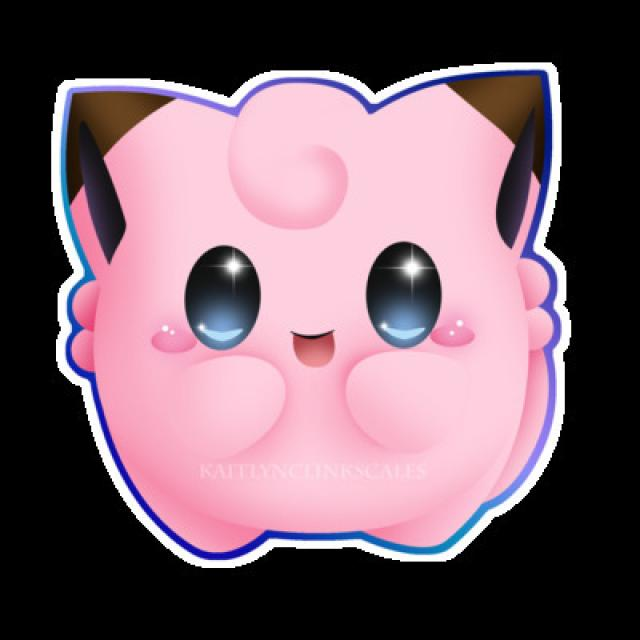Clefairy: (38, 59, 567, 571)
